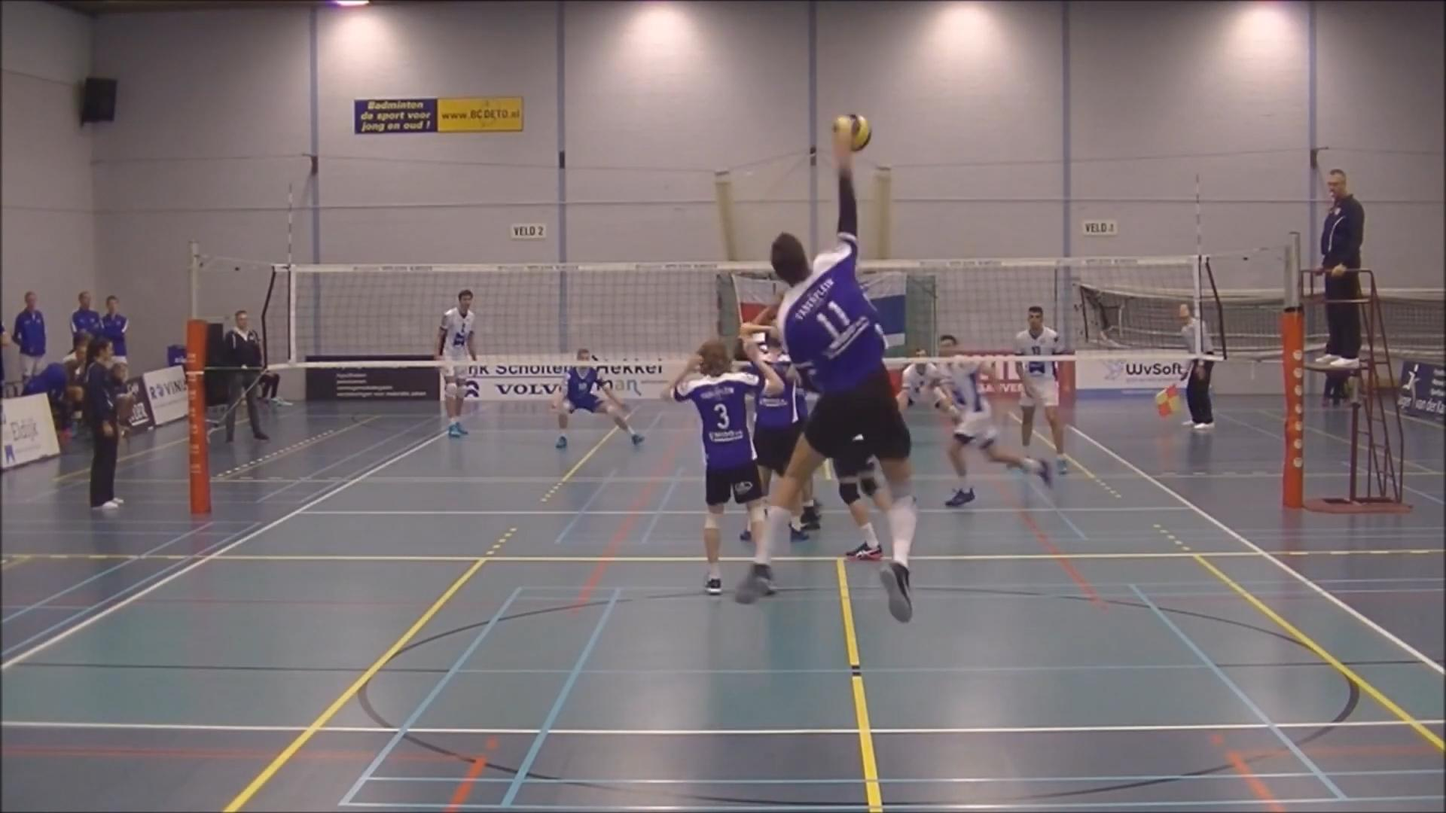battuta: (705, 123, 923, 623)
